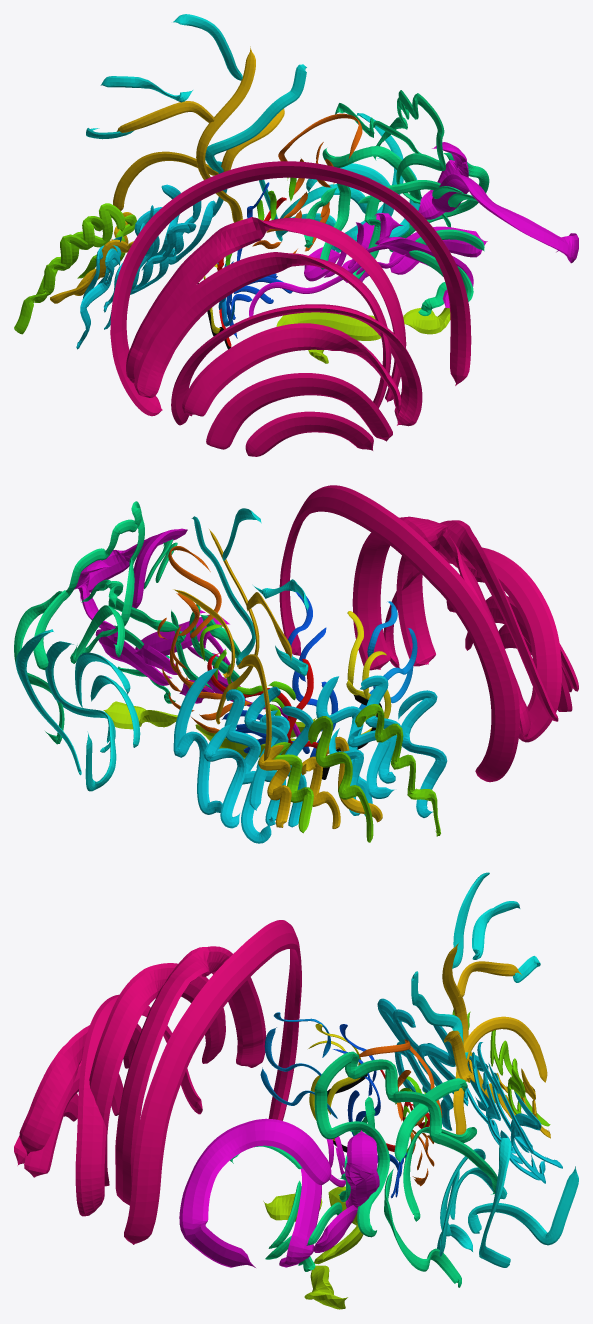
3 renders of one model, top to bottom at view 1: azimuth 30°, elevation 25°; view 2: azimuth 150°, elevation 25°; view 3: azimuth 270°, elevation 25°, orthographic. The views are drawn at different scales.
Visible parts, largest first — view 1: Paint; view 2: Paint; view 3: Paint.
Part boxes in pixels (box(x1,y1,x2,y2)): Paint: box(14, 14, 578, 456); Paint: box(14, 485, 578, 843); Paint: box(14, 872, 578, 1309).
Size of the model in its own units: 1.67 by 1.07 by 1.63.
